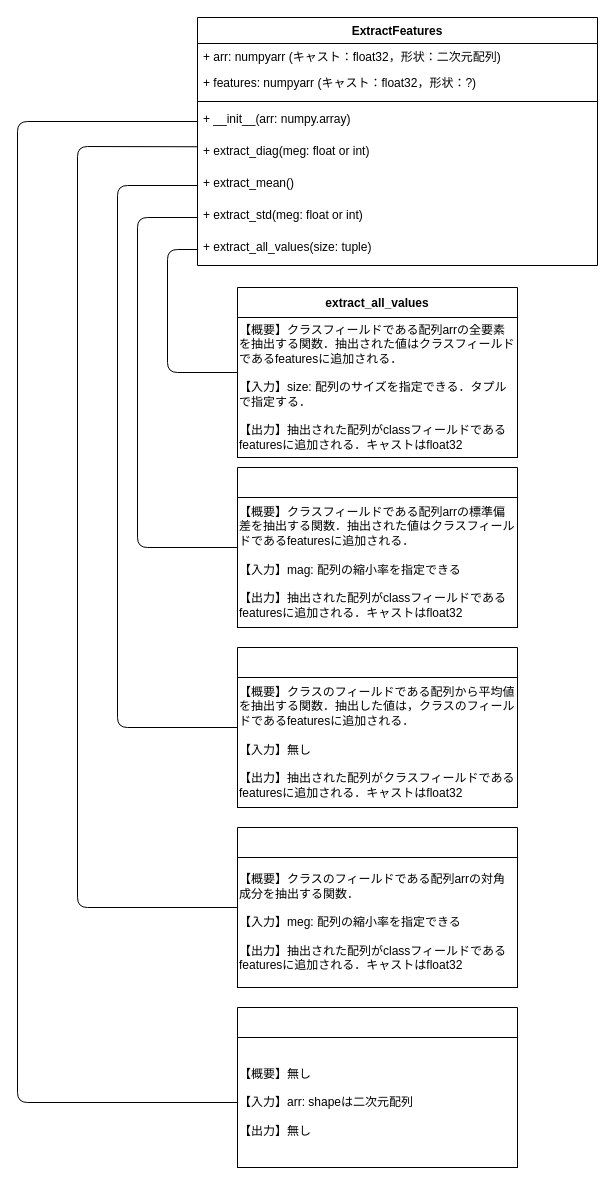
This 615x1185 diagram has some shape labels left out. Each missing label, with the box of its shape:
__init__: (236, 1006, 518, 1168)
extract_diag: (236, 826, 518, 988)
extract_mean: (236, 646, 518, 808)
extract_std: (236, 466, 518, 628)
